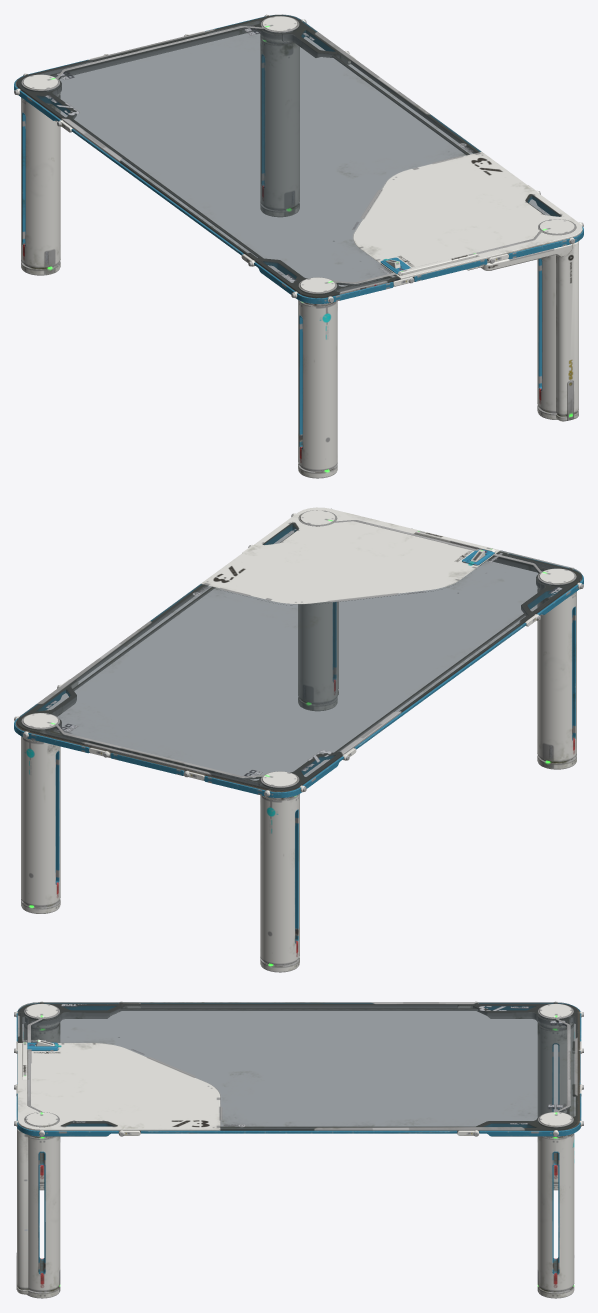
File: scifi_table_concept.glb
3 views of the same model, one above another, from view 1: azimuth 30°, elevation 25°; view 2: azimuth 150°, elevation 25°; view 3: azimuth 270°, elevation 25° (orthographic). The views are drawn at different scales.
Visible parts, largest first — view 1: Cube.004, Cylinder.004, Cube.005; view 2: Cube.004, Cylinder.004, Cube.005; view 3: Cube.004, Cylinder.004, Cube.005.
Part boxes in pixels (x1,y1,x2,y2): Cube.004: (17,14,582,298); Cylinder.004: (14,14,583,478); Cube.005: (398,241,578,421); Cube.004: (16,507,582,790); Cylinder.004: (14,508,583,972); Cube.005: (337,530,495,694); Cube.004: (17,1002,577,1130); Cylinder.004: (14,1001,583,1298); Cube.005: (16,1042,30,1294).
Bounding box in the file's own units: 1.62 × 1.02 × 2.97.
1 material, 1 textured.
